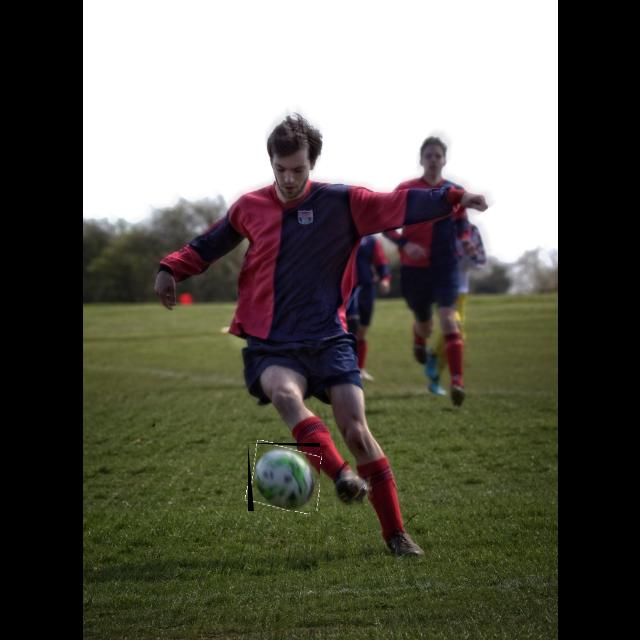Football: (248, 443, 320, 511)
